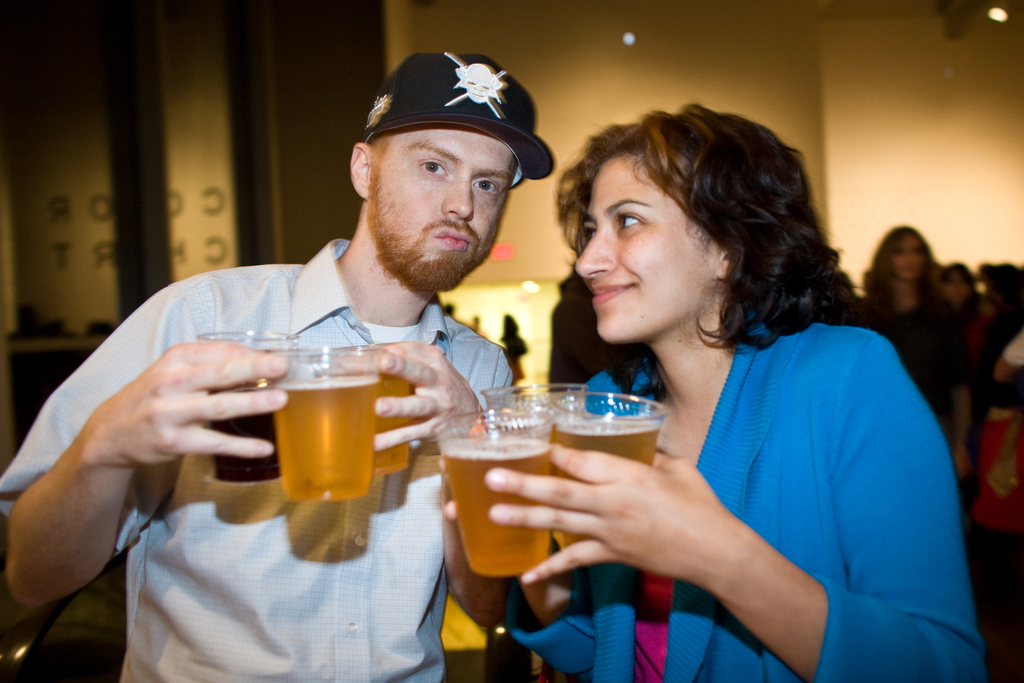Beer: (431, 411, 559, 576), (547, 429, 657, 550), (273, 376, 376, 505), (373, 375, 414, 472)
